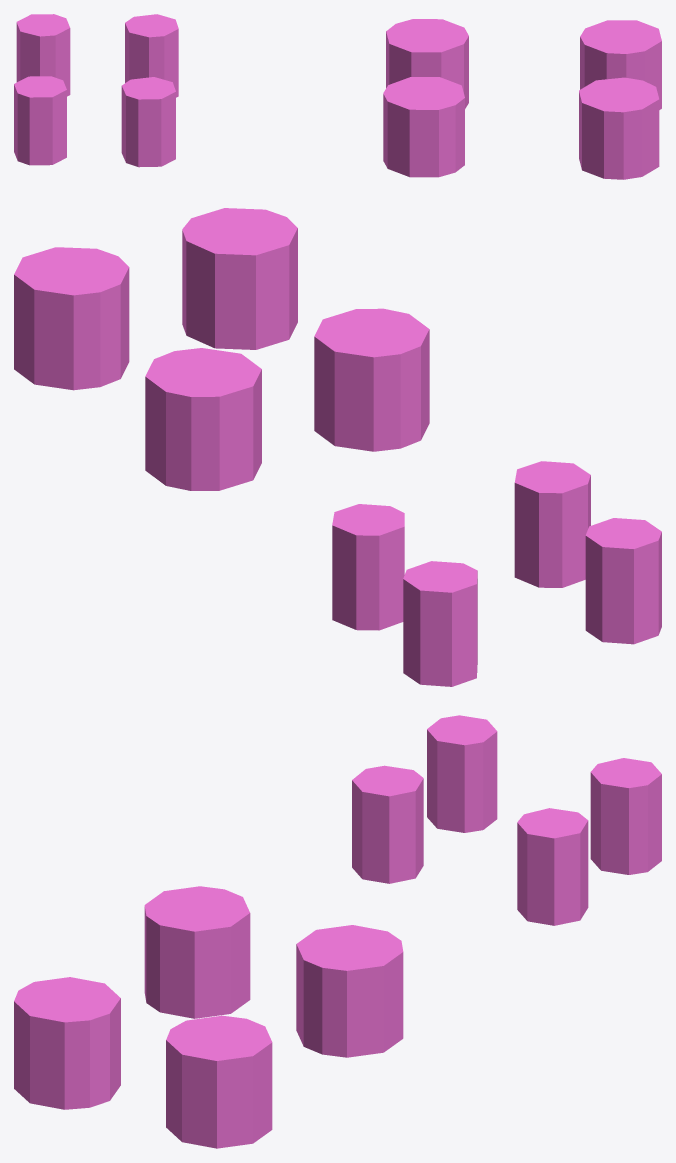
File: bld_18_11.fbx
3 renders of one model, top to bottom at view 1: azimuth 30°, elevation 25°; view 2: azimuth 150°, elevation 25°; view 3: azimuth 270°, elevation 25°, orthographic. The views are drawn at different scales.
Visible parts, largest first — view 1: bld_18_11_COL; view 2: bld_18_11_COL; view 3: bld_18_11_COL.
Part boxes in pixels (bbox=[...]): bld_18_11_COL: bbox=[14, 14, 661, 179]; bld_18_11_COL: bbox=[14, 208, 661, 686]; bld_18_11_COL: bbox=[14, 715, 661, 1148].
Size of what is drawn, in the model's own units: 254 by 30.15 by 202.
